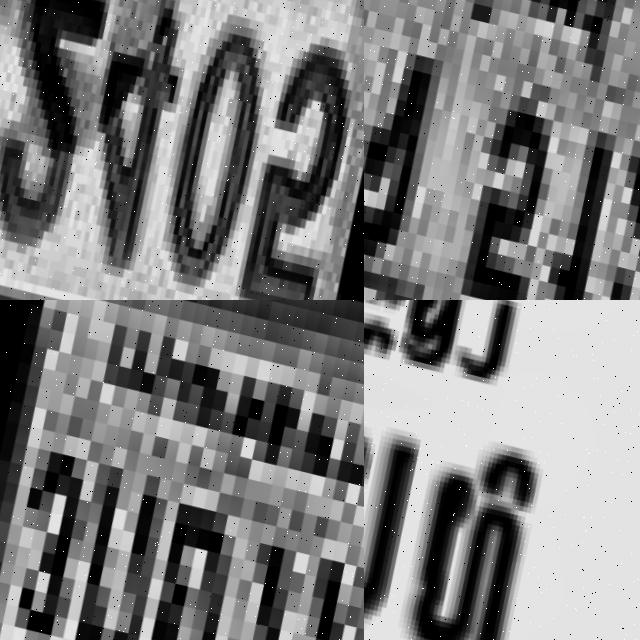license-plate: (0, 300, 364, 640), (0, 0, 364, 300), (364, 300, 640, 640), (364, 0, 640, 300)
